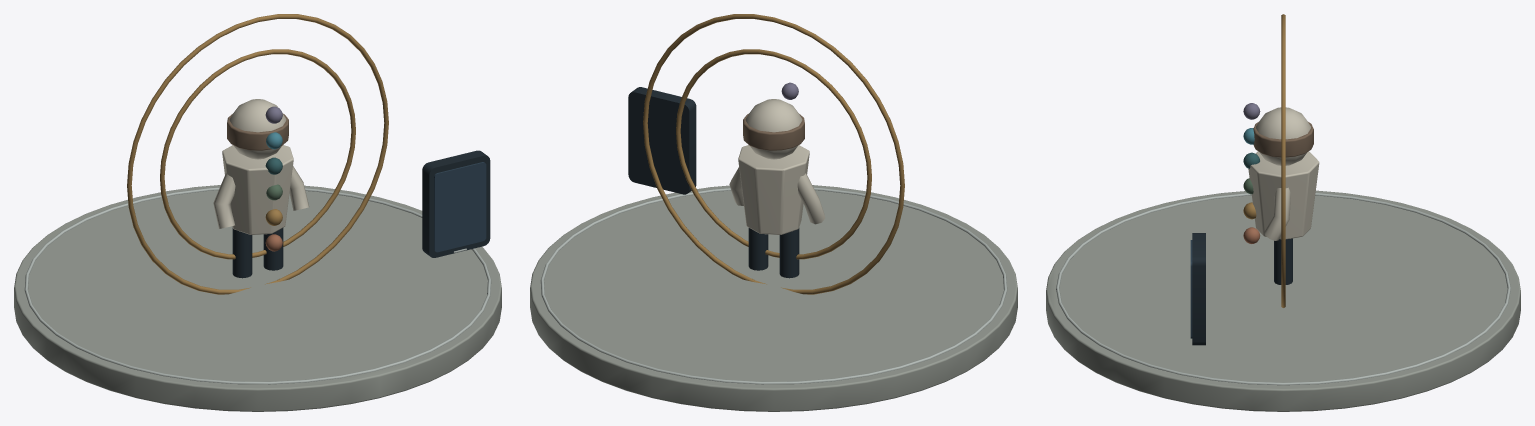
Rendered from idea-8cdf5fa3.glb.
3 renders of one model, left to right at view 1: azimuth 30°, elevation 25°; view 2: azimuth 150°, elevation 25°; view 3: azimuth 270°, elevation 25°, orthographic. The views are drawn at different scales.
Visible parts, largest first — view 1: Distributed Self & Human Fields; view 2: Distributed Self & Human Fields; view 3: Distributed Self & Human Fields.
Part boxes in pixels (x1,y1,x2,y2): Distributed Self & Human Fields: (14,14,501,411); Distributed Self & Human Fields: (530,14,1017,411); Distributed Self & Human Fields: (1046,14,1520,411).
Bounding box in the file's own units: 4.5 × 2.97 × 4.5.
